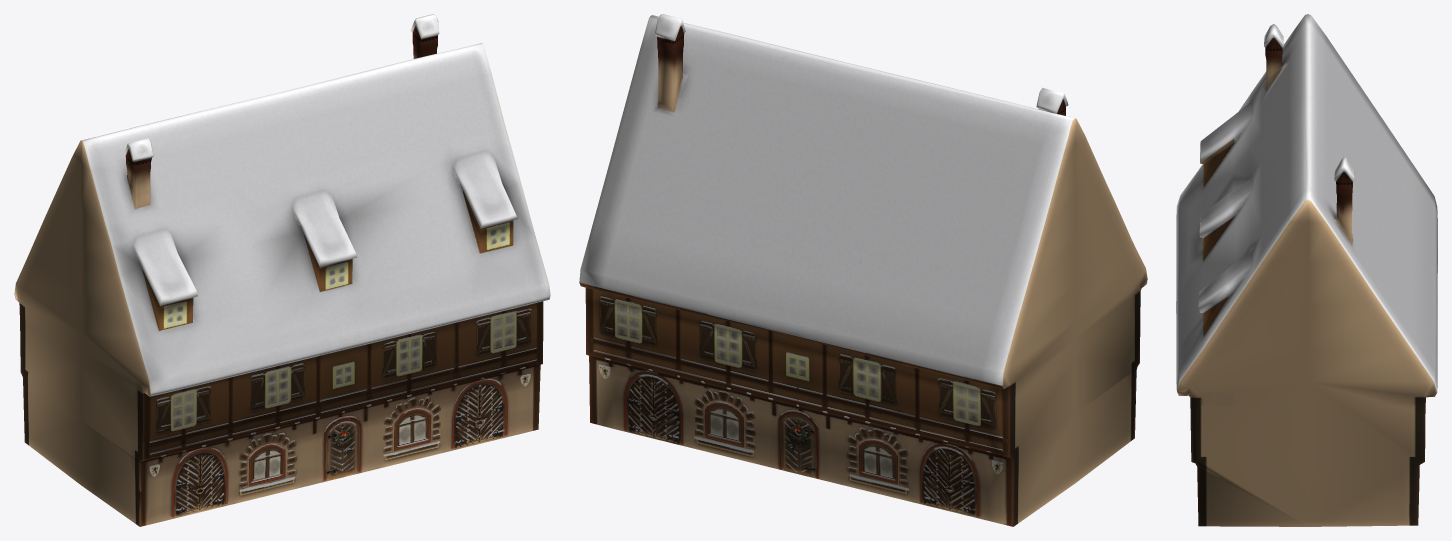
The model's file is House-5.FBX.
The picture shows the model from 3 angles, left to right: view 1: azimuth 30°, elevation 25°; view 2: azimuth 150°, elevation 25°; view 3: azimuth 270°, elevation 25°; orthographic projection. The views are drawn at different scales.
Parts seen in each view (by area): view 1: House-5; view 2: House-5; view 3: House-5.
Part boxes in pixels (x1,y1,x2,y2): House-5: [14, 14, 550, 526]; House-5: [579, 14, 1147, 526]; House-5: [1176, 14, 1437, 526].
Bounding box in the file's own units: 38.75 × 33.81 × 23.01.
1 material, 1 textured.
